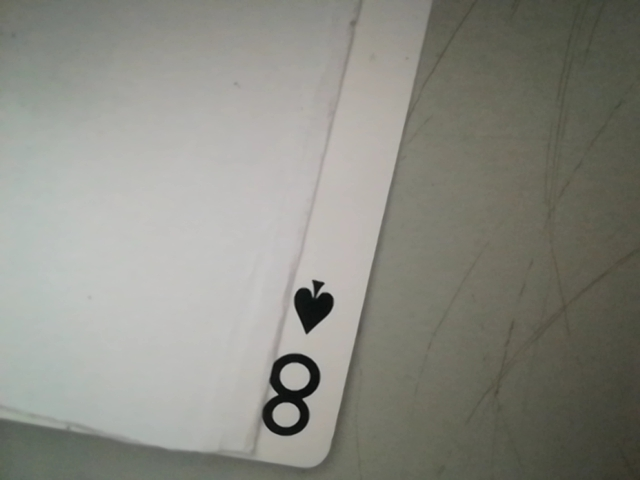ht 8: (250, 263, 347, 454)
